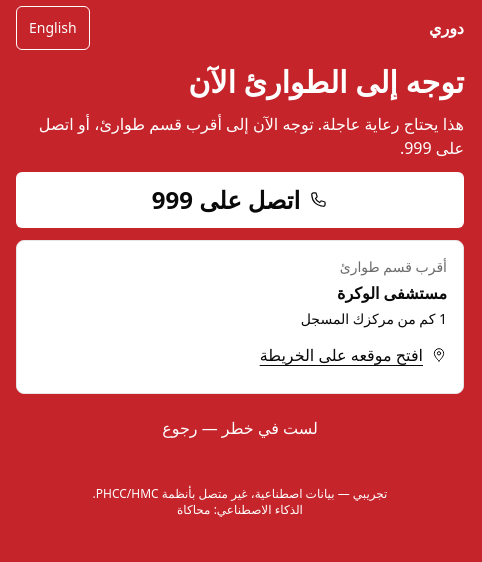
it: S06 emergency › shows no chat box, ticket or centre picker in any state
Click the button with test id "emergency-override". click: coordinates (240, 428)
box: [16,406,464,450]
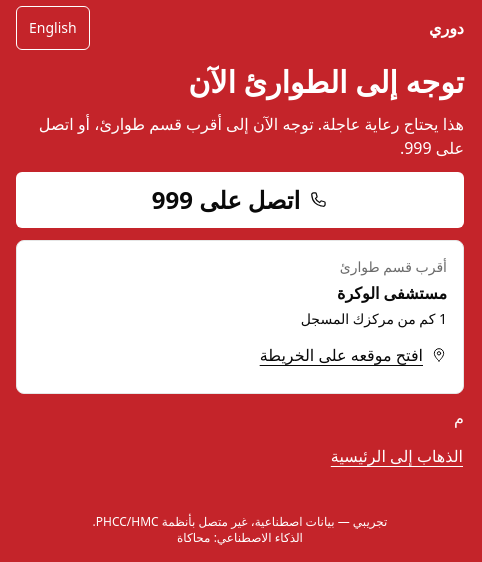
Result: the message "م" is shown at [454,407,464,429]
